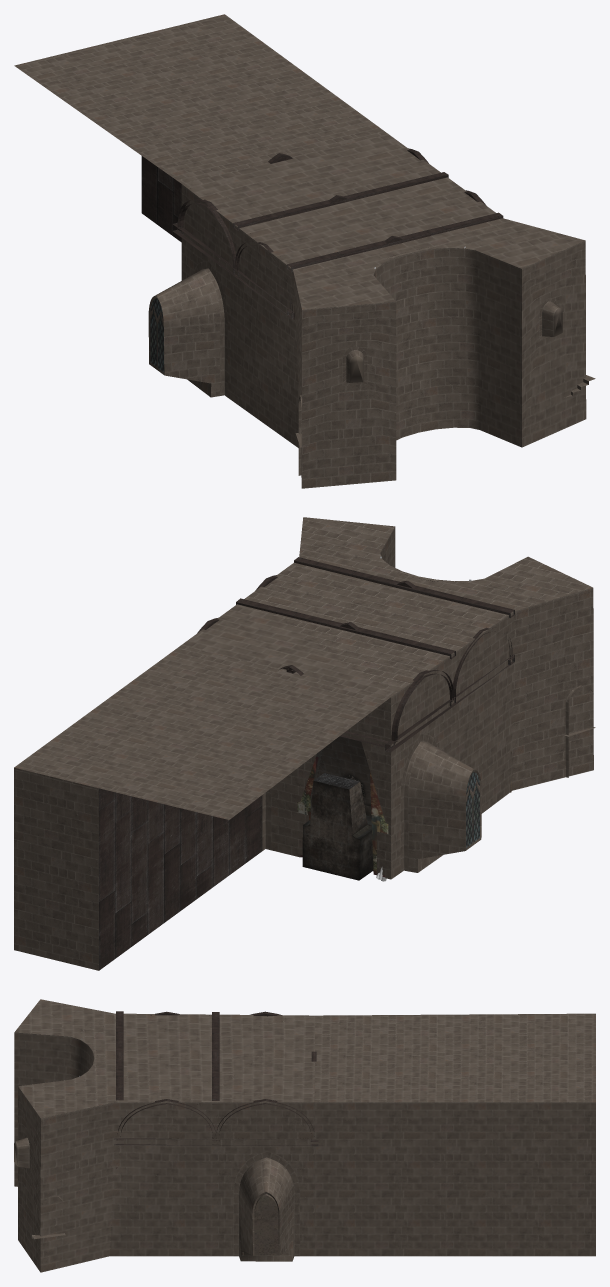
3 views of the same model, one above another, from view 1: azimuth 30°, elevation 25°; view 2: azimuth 150°, elevation 25°; view 3: azimuth 270°, elevation 25° (orthographic). The views are drawn at different scales.
Visible parts, largest first — view 1: walls_mesh, supportbeams_mesh, woodfloor_mesh, windows_mesh; view 2: walls_mesh, woodfloor_mesh, fireplace_mesh_pk_gryffindorcommonroom_atlas_02_unlit_mat #2, supportbeams_mesh, tapestries_mesh, windows_mesh; view 3: walls_mesh, supportbeams_mesh.
Part boxes in pixels (x1=…): walls_mesh: x1=14, y1=14, x2=595, y2=488; supportbeams_mesh: x1=173, y1=148, x2=503, y2=319; woodfloor_mesh: x1=141, y1=156, x2=181, y2=242; windows_mesh: x1=150, y1=298, x2=164, y2=372; walls_mesh: x1=14, y1=517, x2=595, y2=970; woodfloor_mesh: x1=99, y1=788, x2=262, y2=970; fireplace_mesh_pk_gryffindorcommonroom_atlas_02_unlit_mat #2: x1=297, y1=736, x2=387, y2=880; supportbeams_mesh: x1=197, y1=557, x2=514, y2=752; tapestries_mesh: x1=297, y1=756, x2=388, y2=877; windows_mesh: x1=466, y1=772, x2=480, y2=847; walls_mesh: x1=14, y1=999, x2=595, y2=1272; supportbeams_mesh: x1=114, y1=1011, x2=322, y2=1146.
Size of the model in its own units: 0.1627 by 0.0945 by 0.3024.
